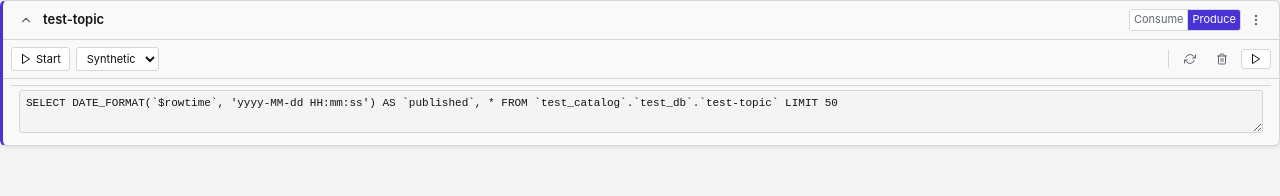
[@stream-card-layout] StreamCard Layout › Producer controls › dataset options row appears when dataset source selected
Select "Dataset" in the dropdown named "Data source" at (117,59), box [76,47,159,71]
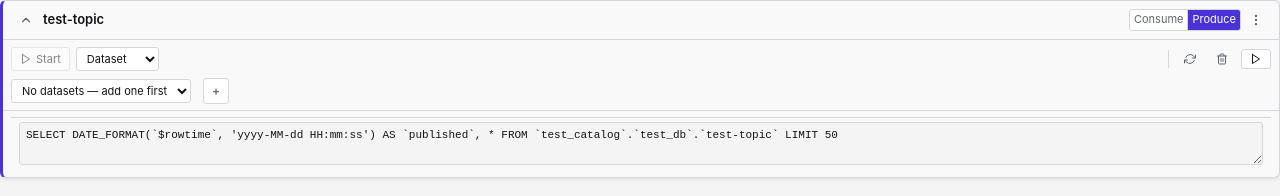
Result: the dropdown named "Select dataset" is shown at [11,79,191,103]
